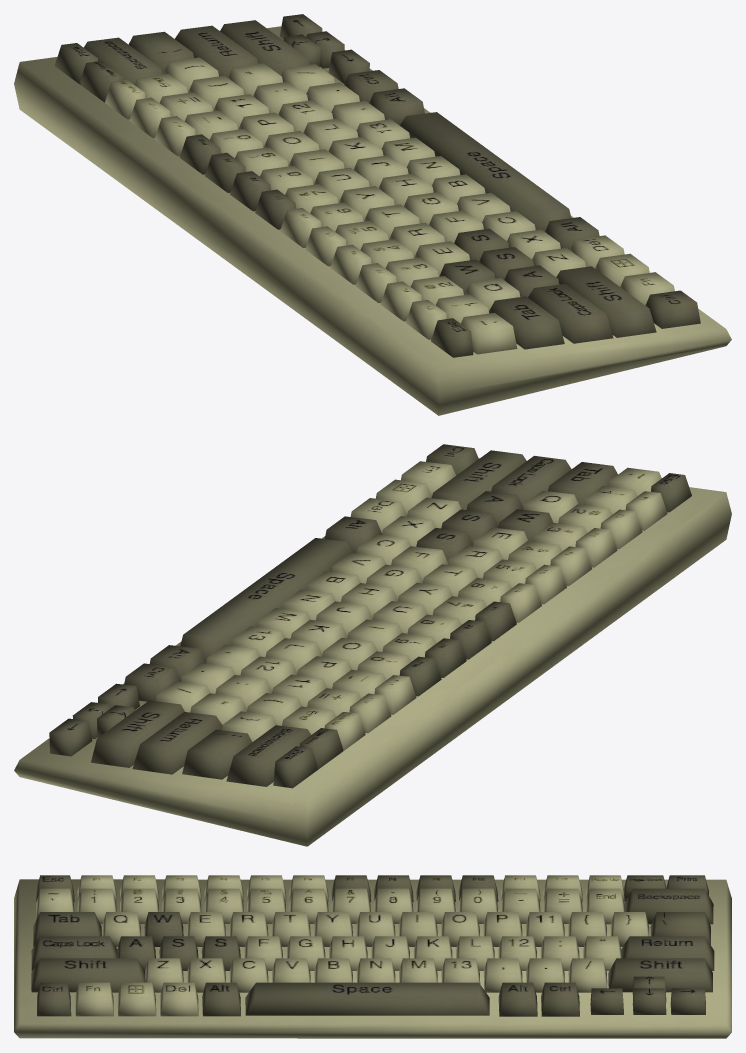
The model's file is keyboard_single.gltf.
3 renders of one model, top to bottom at view 1: azimuth 30°, elevation 25°; view 2: azimuth 150°, elevation 25°; view 3: azimuth 270°, elevation 25°, orthographic. The views are drawn at different scales.
Parts seen in each view (by area): view 1: Object_4; view 2: Object_4; view 3: Object_4.
Boxes of the visible parts, x1,y1,x2,y2 form: Object_4: (14,14,731,415); Object_4: (14,444,731,846); Object_4: (14,875,731,1038).
Bounding box in the file's own units: 0.1689 × 0.0384 × 0.4259.
